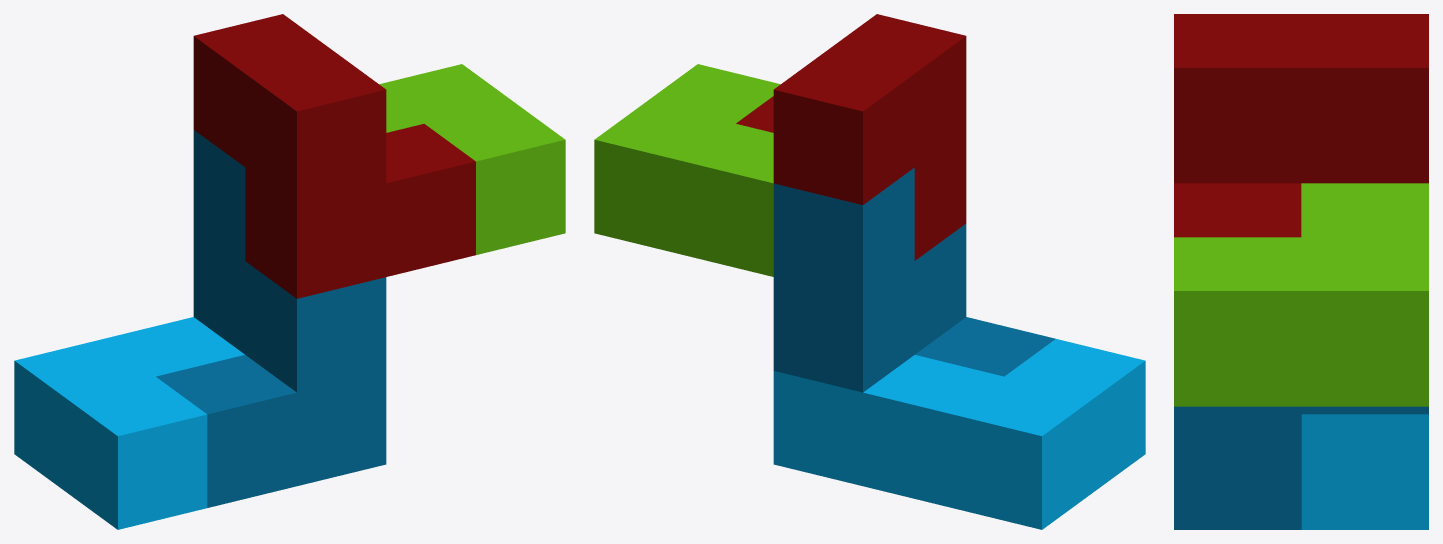
3 views of the same model, side by side, from view 1: azimuth 30°, elevation 25°; view 2: azimuth 150°, elevation 25°; view 3: azimuth 270°, elevation 25° (orthographic). The views are drawn at different scales.
Visible parts, largest first — view 1: mergedBlocks(Clone); view 2: mergedBlocks(Clone); view 3: mergedBlocks(Clone).
Boxes of the visible parts, x1,y1,x2,y2 form: mergedBlocks(Clone): (14,14,565,529); mergedBlocks(Clone): (594,14,1145,529); mergedBlocks(Clone): (1174,14,1428,529).
Bounding box in the file's own units: 5 × 4 × 2.
4 materials, 4 textured.
